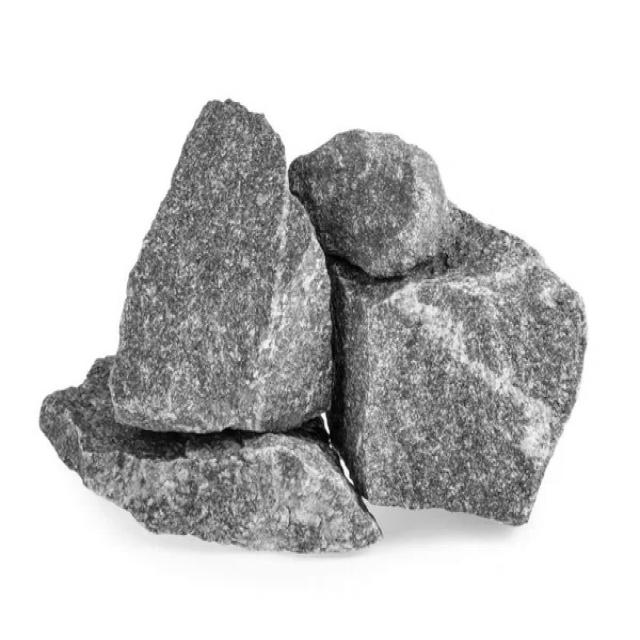Stone: (330, 208, 588, 526), (110, 99, 331, 432), (40, 357, 382, 553), (290, 129, 456, 277)
